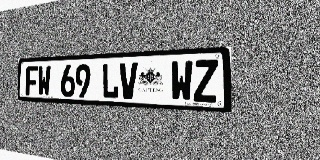6: (61, 65, 75, 97)
9: (75, 64, 91, 98)
F: (26, 66, 38, 96)
L: (102, 63, 119, 99)
V: (119, 62, 138, 100)
W: (171, 60, 193, 102), (38, 65, 51, 96)
Z: (194, 59, 218, 103)
